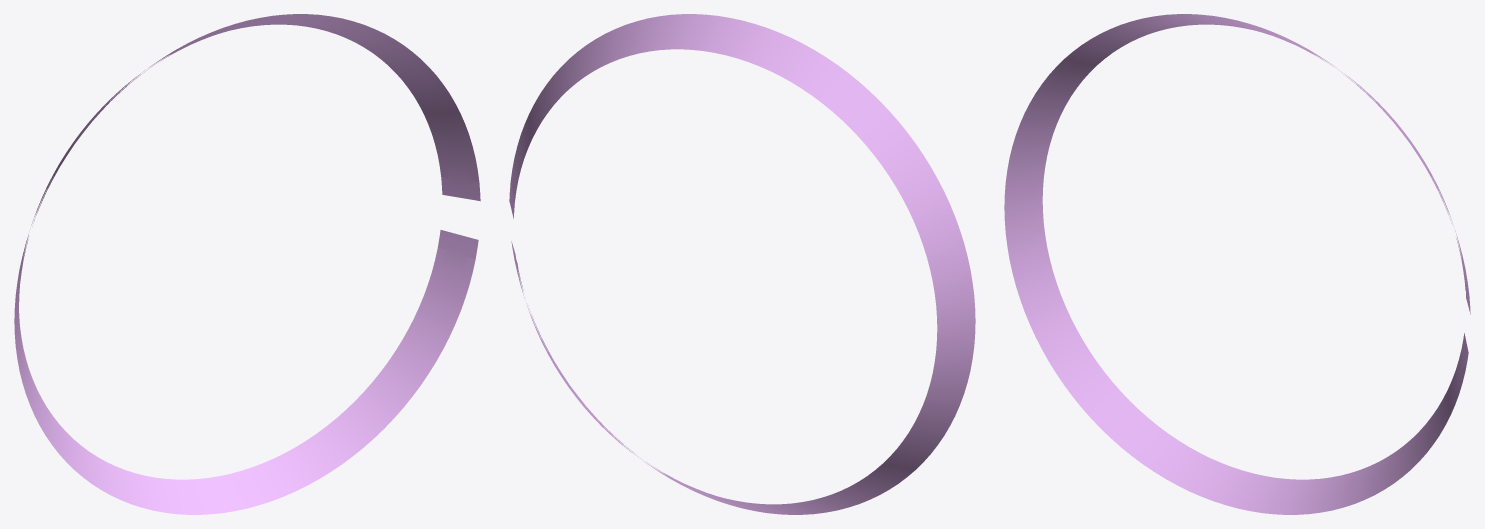
File: Mesh_Note_59.fbx
3 renders of one model, left to right at view 1: azimuth 30°, elevation 25°; view 2: azimuth 150°, elevation 25°; view 3: azimuth 330°, elevation 25°, orthographic.
Parts seen in each view (by area): view 1: Mesh_Note_59; view 2: Mesh_Note_59; view 3: Mesh_Note_59.
Boxes of the visible parts, x1=… form: Mesh_Note_59: x1=14, y1=14, x2=480, y2=514; Mesh_Note_59: x1=509, y1=14, x2=975, y2=514; Mesh_Note_59: x1=1004, y1=14, x2=1470, y2=514.
Size of the model in its own units: 3.56 by 3.56 by 0.2235.
